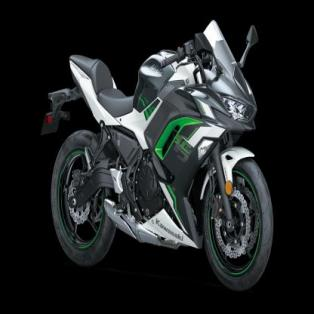Motocicleta: (39, 12, 278, 296)
